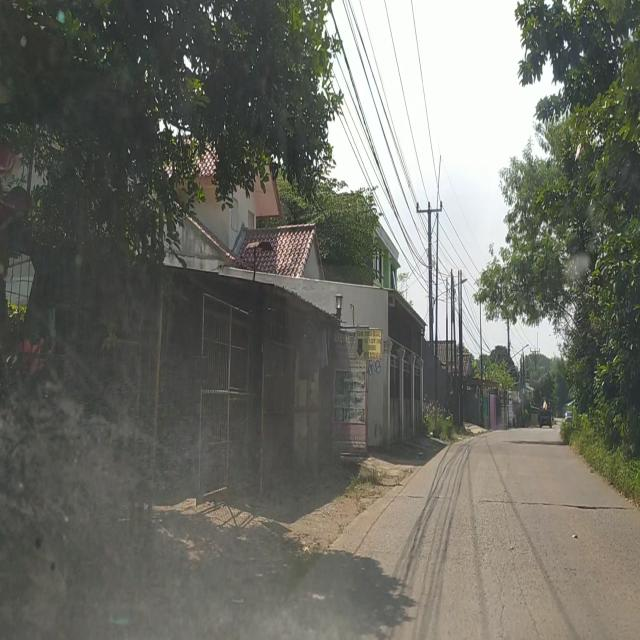Sewer Cover: (402, 491, 630, 514)
